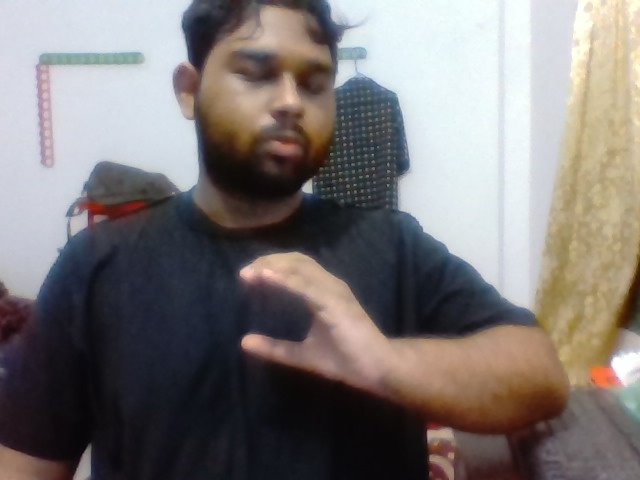C: (215, 240, 405, 416)
